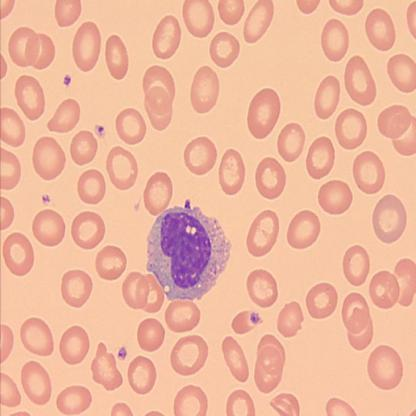Monocyte: (144, 197, 232, 303)
